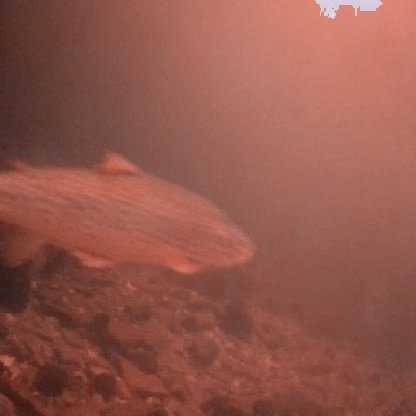salmon: (0, 150, 259, 275)
